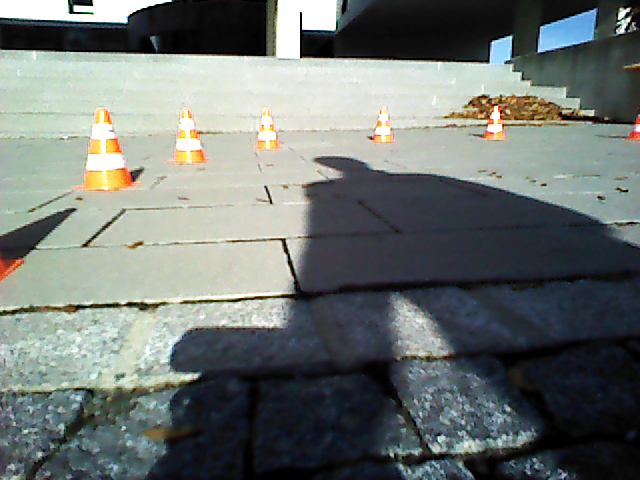orangeconesmall: (76, 108, 138, 191), (168, 108, 209, 166), (256, 109, 282, 150), (482, 105, 506, 142), (372, 106, 395, 144)
